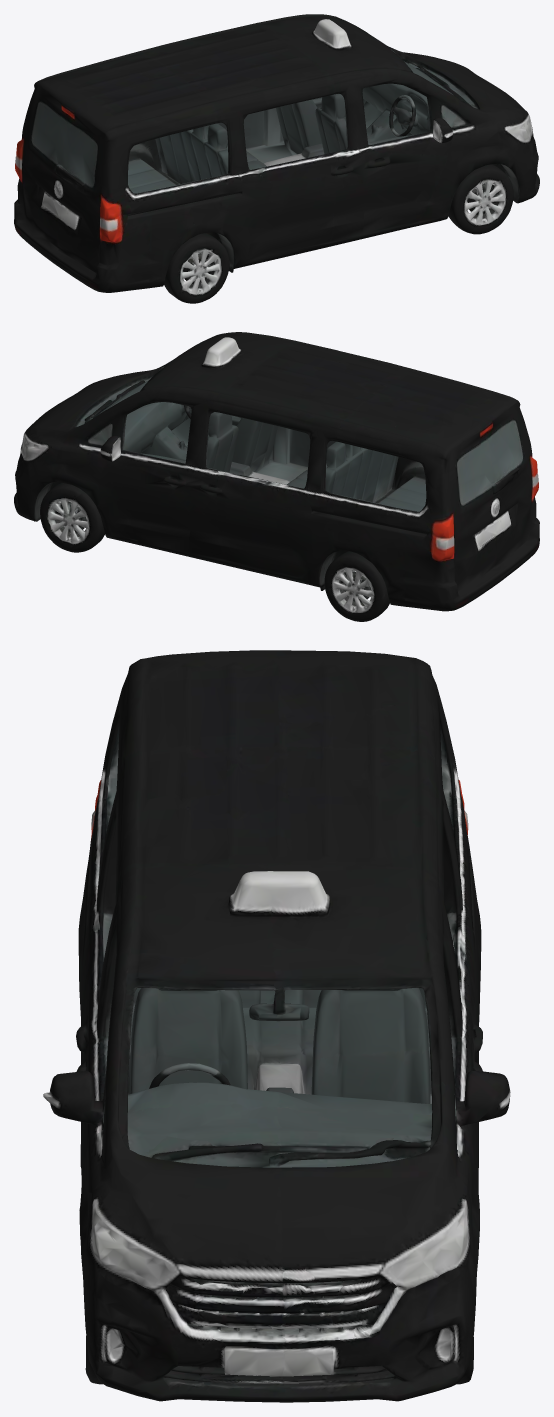
Rendered from van-m.glb.
3 views of the same model, one above another, from view 1: azimuth 30°, elevation 25°; view 2: azimuth 150°, elevation 25°; view 3: azimuth 270°, elevation 25° (orthographic). The views are drawn at different scales.
Visible parts, largest first — view 1: tripo_node_6f0abe9d-5b7e-47fb-a614-a2cdc75c79df; view 2: tripo_node_6f0abe9d-5b7e-47fb-a614-a2cdc75c79df; view 3: tripo_node_6f0abe9d-5b7e-47fb-a614-a2cdc75c79df.
Part boxes in pixels (x1,y1,x2,y2): tripo_node_6f0abe9d-5b7e-47fb-a614-a2cdc75c79df: (14, 14, 539, 303); tripo_node_6f0abe9d-5b7e-47fb-a614-a2cdc75c79df: (14, 332, 539, 621); tripo_node_6f0abe9d-5b7e-47fb-a614-a2cdc75c79df: (43, 650, 510, 1402).
Size of the model in its own units: 0.9999 by 0.4131 by 0.4359.
1 material, 1 textured.
